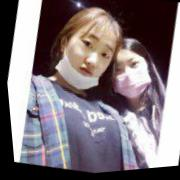OK: (105, 52, 154, 107)
WRONG: (55, 24, 119, 97)
